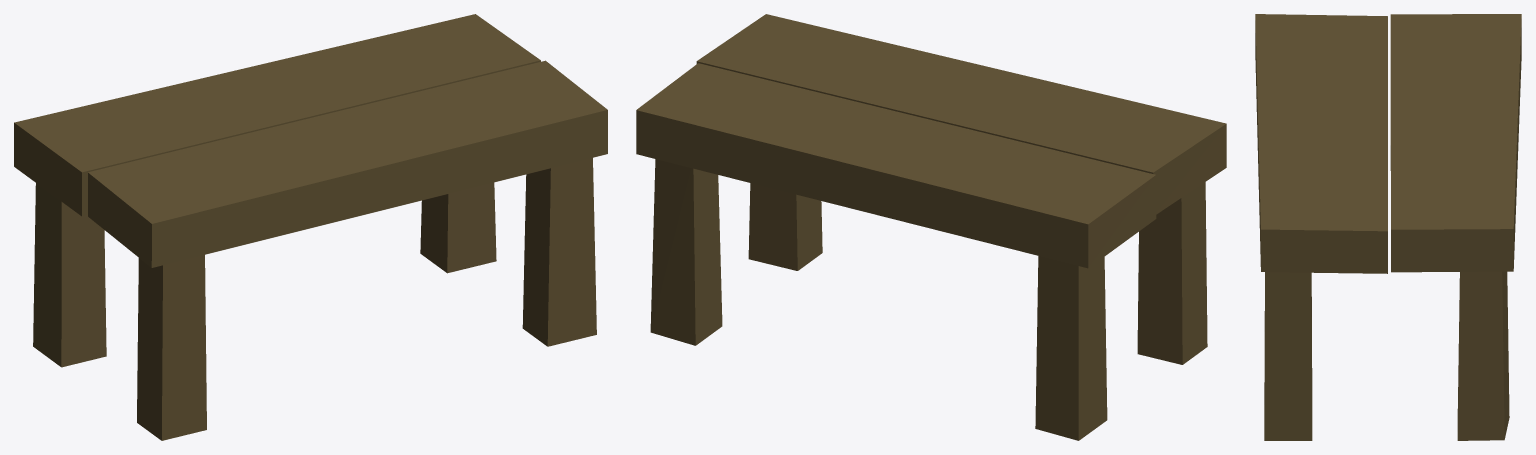
File: Table 03.FBX
3 views of the same model, side by side, from view 1: azimuth 30°, elevation 25°; view 2: azimuth 150°, elevation 25°; view 3: azimuth 270°, elevation 25° (orthographic). The views are drawn at different scales.
Visible parts, largest first — view 1: Table 03; view 2: Table 03; view 3: Table 03.
Part boxes in pixels (x1,y1,x2,y2): Table 03: [14, 14, 607, 440]; Table 03: [636, 14, 1226, 440]; Table 03: [1255, 14, 1521, 440].
Size of the model in its own units: 153 by 70.88 by 79.3.
